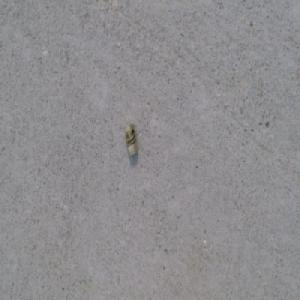BoltNutSet: (125, 123, 139, 156)
